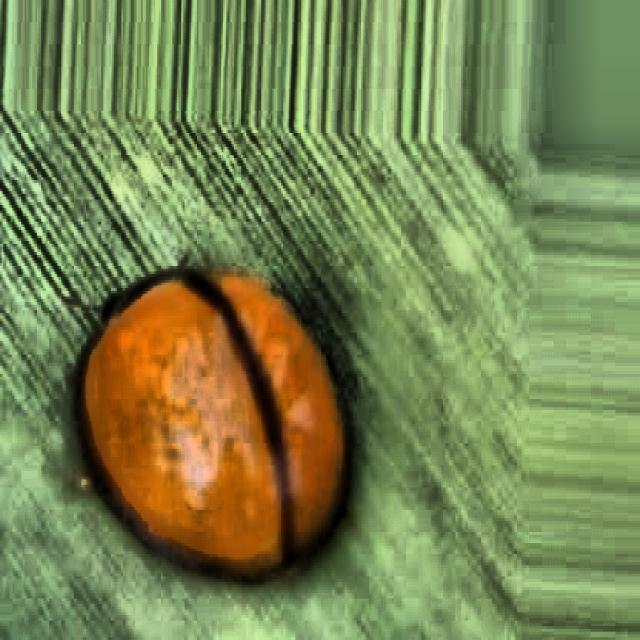Ladybug: (35, 156, 393, 640)
